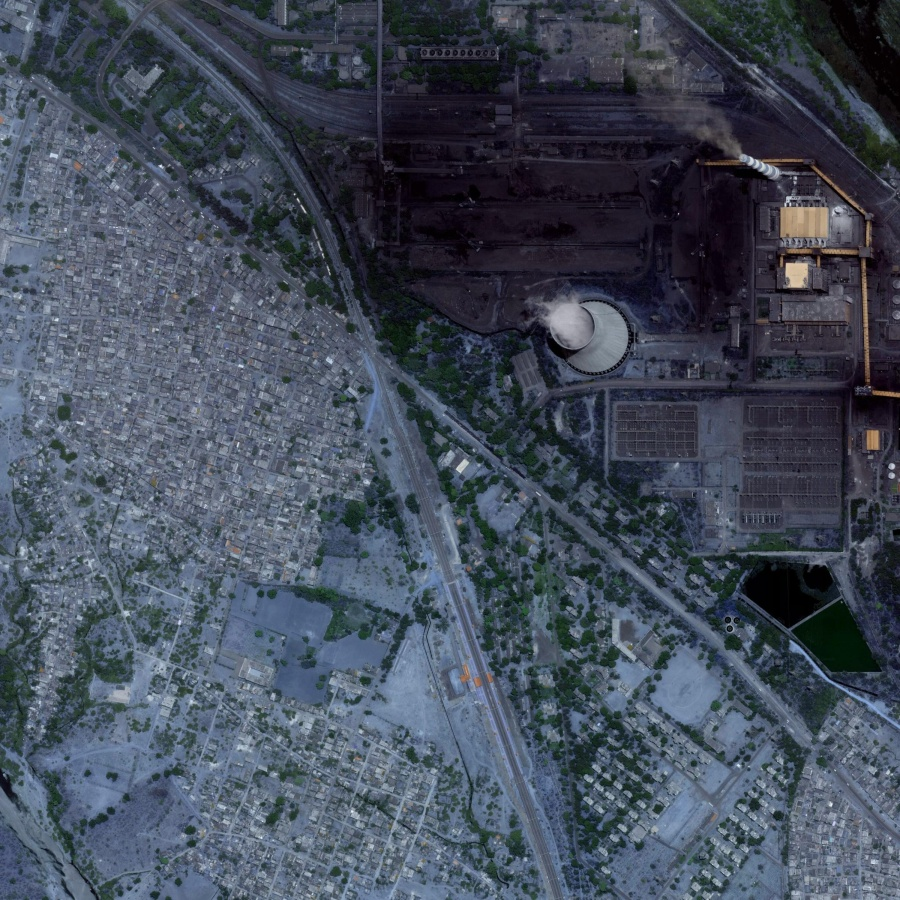PowerPlant: (348, 52, 841, 407)
